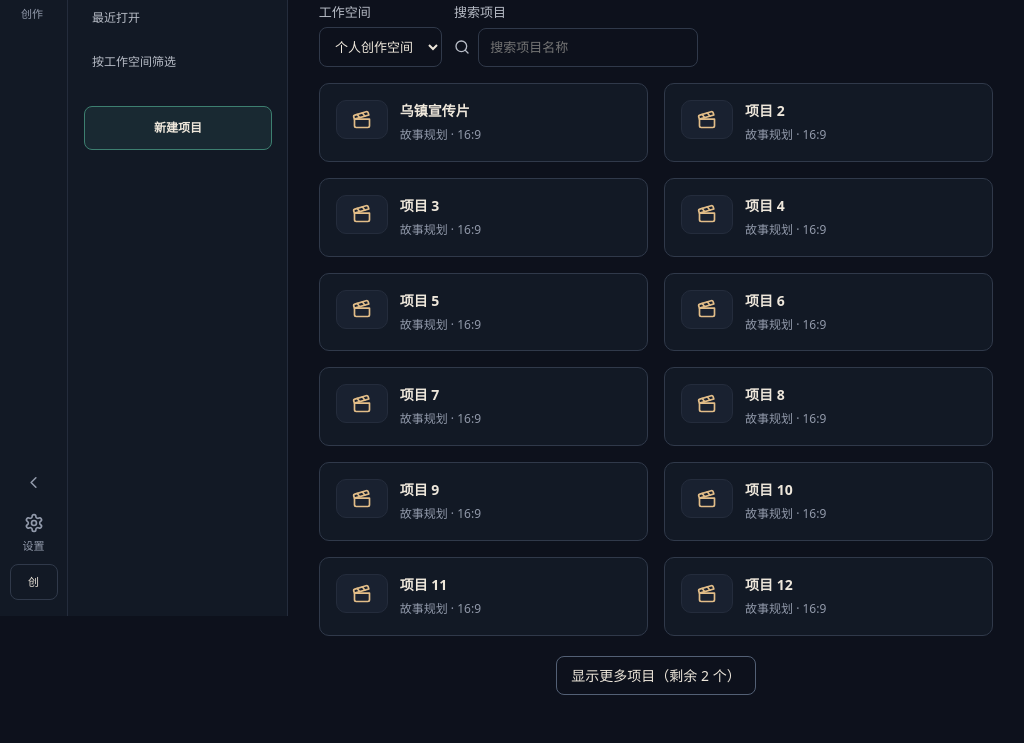
Workstation shell › omits an empty continuation card and progressively reveals long project lists
The width and height of the screenshot is (1024, 743).
(page scrolled)
Step 1. Click the button "显示更多项目（剩余 2 个）" → (656, 675), box 556,656 -> 756,695
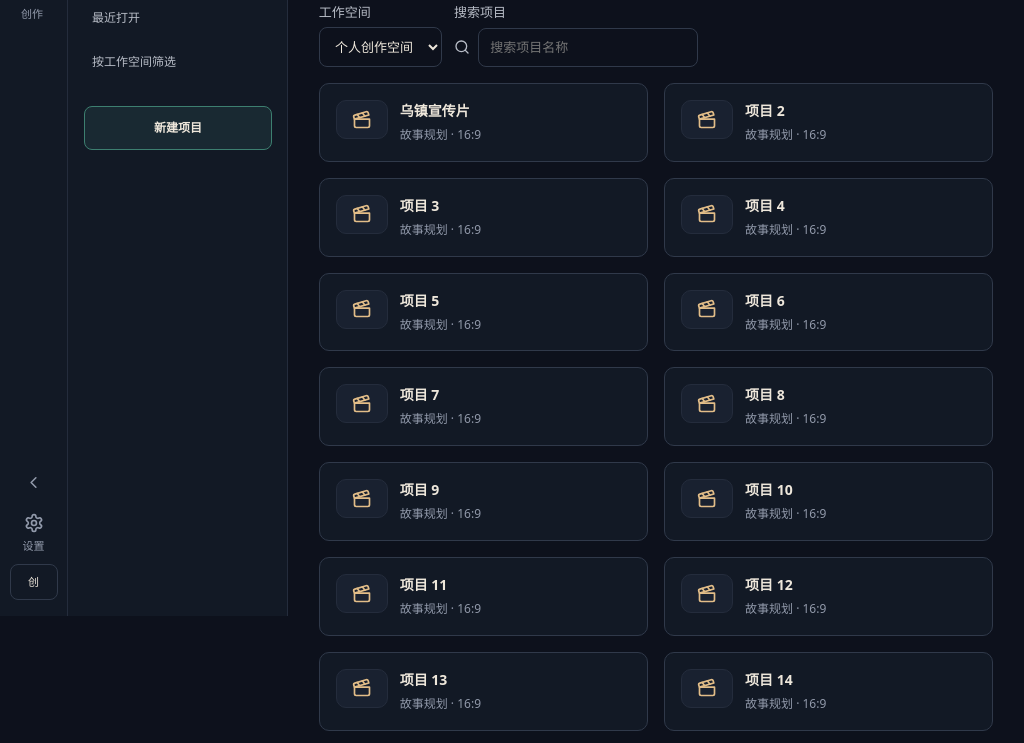
Check: the button "显示更多项目" is gone
